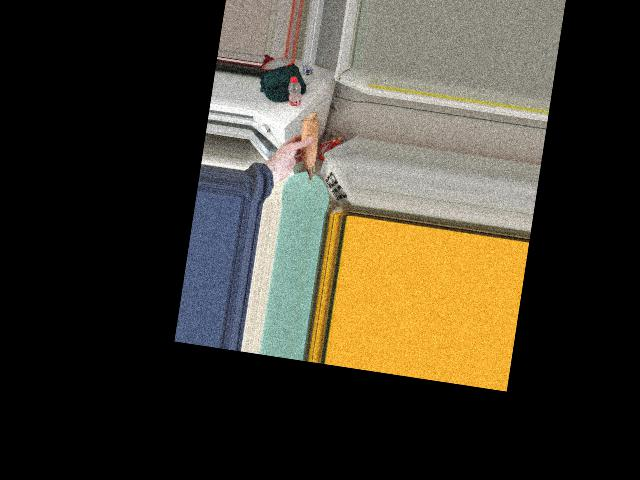sweet_potato: (292, 107, 321, 176)
